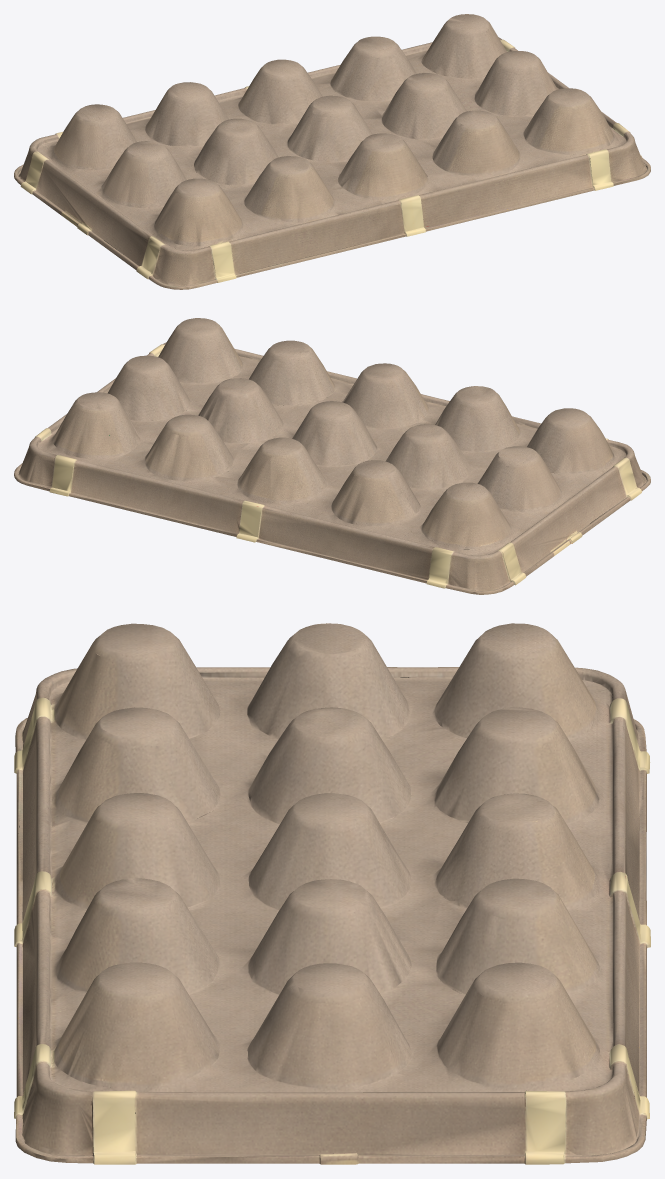
File: 8-topper.fbx
3 renders of one model, top to bottom at view 1: azimuth 30°, elevation 25°; view 2: azimuth 150°, elevation 25°; view 3: azimuth 270°, elevation 25°, orthographic. The views are drawn at different scales.
Visible parts, largest first — view 1: topper; view 2: topper; view 3: topper.
Boxes of the visible parts, x1,y1,x2,y2 form: topper: (14,14,650,289); topper: (14,318,650,594); topper: (14,623,650,1164).
Size of the model in its own units: 15012 by 2005 by 8912.
1 material, 1 textured.
